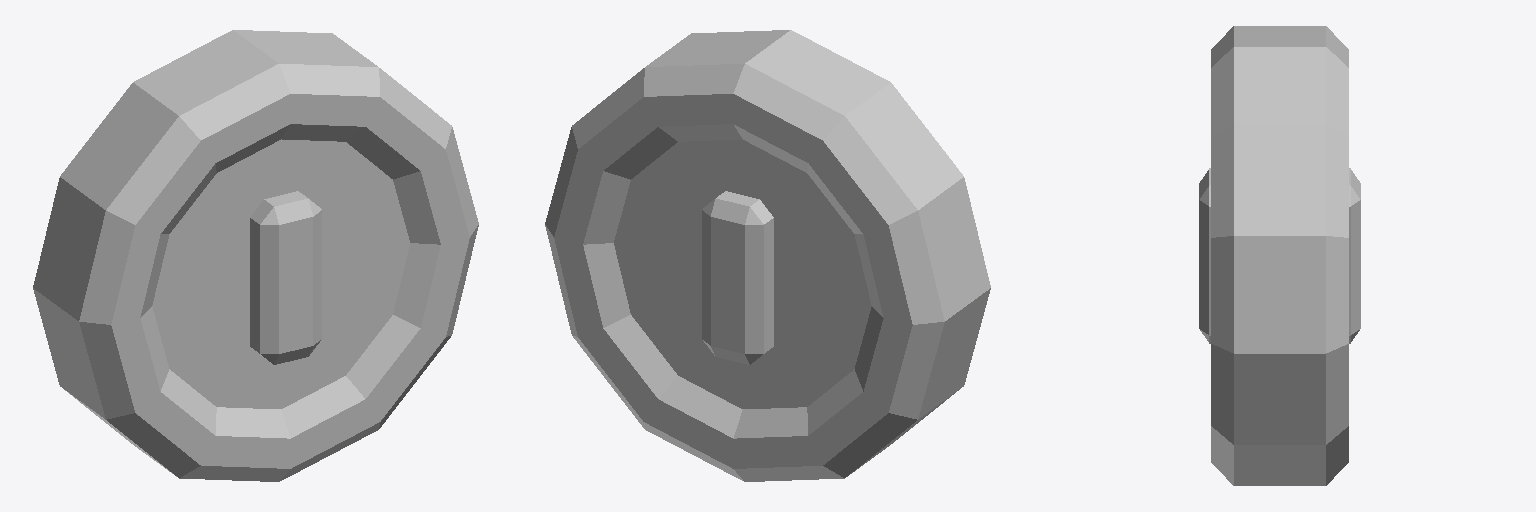
The model's file is Coin_C.obj.
3 views of the same model, side by side, from view 1: azimuth 30°, elevation 25°; view 2: azimuth 150°, elevation 25°; view 3: azimuth 270°, elevation 25° (orthographic).
Visible parts, largest first — view 1: Coin_C_Cylinder.050; view 2: Coin_C_Cylinder.050; view 3: Coin_C_Cylinder.050.
Part boxes in pixels (x1,y1,x2,y2): Coin_C_Cylinder.050: (33, 30, 478, 481); Coin_C_Cylinder.050: (545, 30, 990, 481); Coin_C_Cylinder.050: (1199, 26, 1360, 485).
Size of the model in its own units: 1 by 1 by 0.3492.